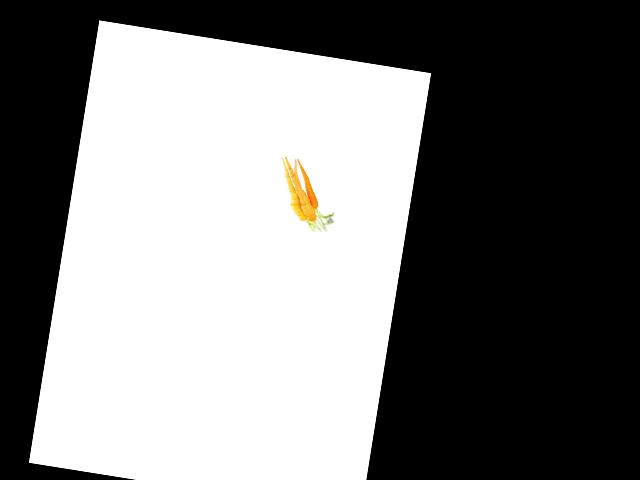carrot: (270, 156, 316, 224)
